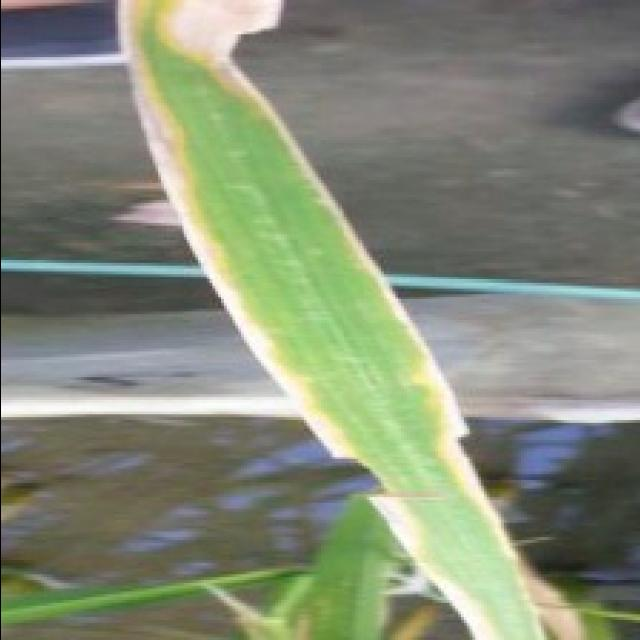Unhealthy: (115, 0, 512, 559), (369, 491, 502, 640), (527, 573, 584, 640)
